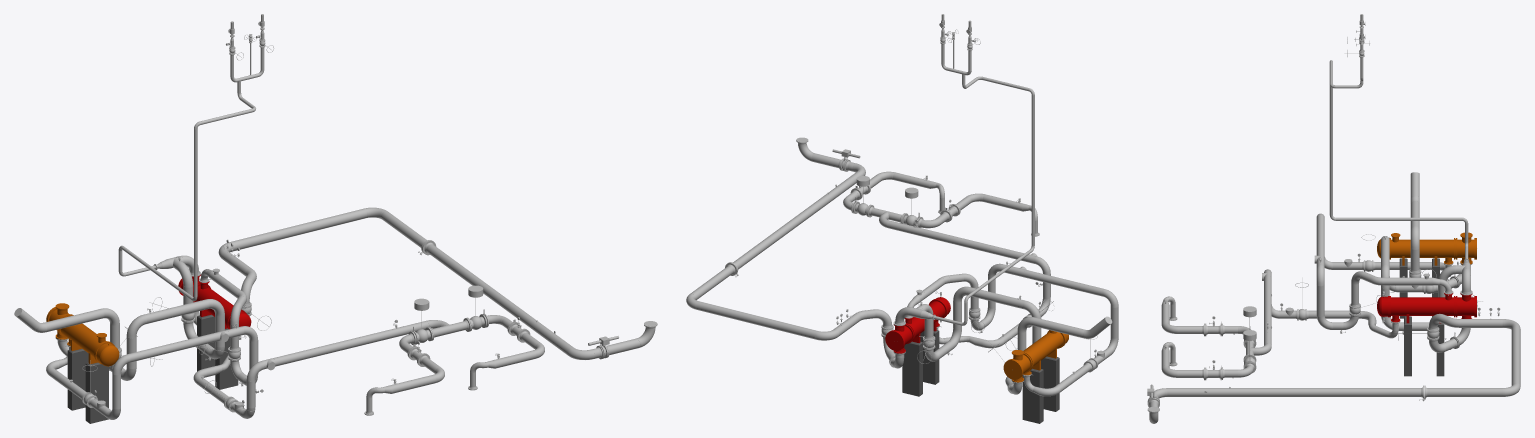
3 views of the same model, side by side, from view 1: azimuth 30°, elevation 25°; view 2: azimuth 150°, elevation 25°; view 3: azimuth 270°, elevation 25° (orthographic). The views are drawn at different scales.
Visible parts, largest first — view 1: 574f0313-eb32-ed11-94d4-0022482244b6_21_1_1, 574f0313-eb32-ed11-94d4-0022482244b6_23_1_1, 634f0313-eb32-ed11-94d4-0022482244b6_20_1_1, 574f0313-eb32-ed11-94d4-0022482244b6_22_1_1, 574f0313-eb32-ed11-94d4-0022482244b6_23_2_1, 574f0313-eb32-ed11-94d4-0022482244b6_20_1_1, 9c4f0313-eb32-ed11-94d4-0022482244b6_20_1_1, 574f0313-eb32-ed11-94d4-0022482244b6_28_1_1, 574f0313-eb32-ed11-94d4-0022482244b6_27_1_1, 574f0313-eb32-ed11-94d4-0022482244b6_24_1_1, 574f0313-eb32-ed11-94d4-0022482244b6_25_1_1, 864f0313-eb32-ed11-94d4-0022482244b6_20_1_1 (+1 smaller); view 2: 574f0313-eb32-ed11-94d4-0022482244b6_21_1_1, 574f0313-eb32-ed11-94d4-0022482244b6_23_1_1, 634f0313-eb32-ed11-94d4-0022482244b6_20_1_1, 574f0313-eb32-ed11-94d4-0022482244b6_22_1_1, 574f0313-eb32-ed11-94d4-0022482244b6_20_1_1, 574f0313-eb32-ed11-94d4-0022482244b6_23_2_1, 9c4f0313-eb32-ed11-94d4-0022482244b6_20_1_1, 864f0313-eb32-ed11-94d4-0022482244b6_20_1_1, 574f0313-eb32-ed11-94d4-0022482244b6_24_1_1, 574f0313-eb32-ed11-94d4-0022482244b6_28_1_1, 574f0313-eb32-ed11-94d4-0022482244b6_25_1_1, 574f0313-eb32-ed11-94d4-0022482244b6_27_1_1 (+2 smaller); view 3: 574f0313-eb32-ed11-94d4-0022482244b6_21_1_1, 574f0313-eb32-ed11-94d4-0022482244b6_23_1_1, 574f0313-eb32-ed11-94d4-0022482244b6_22_1_1, 574f0313-eb32-ed11-94d4-0022482244b6_20_1_1, 864f0313-eb32-ed11-94d4-0022482244b6_20_1_1, 9c4f0313-eb32-ed11-94d4-0022482244b6_20_1_1, 574f0313-eb32-ed11-94d4-0022482244b6_25_1_1, 574f0313-eb32-ed11-94d4-0022482244b6_24_1_1, 574f0313-eb32-ed11-94d4-0022482244b6_23_2_1, 634f0313-eb32-ed11-94d4-0022482244b6_20_1_1, 574f0313-eb32-ed11-94d4-0022482244b6_26_1_1, 574f0313-eb32-ed11-94d4-0022482244b6_28_1_1 (+2 smaller).
Part boxes in pixels (<box>): 574f0313-eb32-ed11-94d4-0022482244b6_21_1_1: <box>33,207,573,380</box>; 574f0313-eb32-ed11-94d4-0022482244b6_23_1_1: <box>112,305,544,409</box>; 634f0313-eb32-ed11-94d4-0022482244b6_20_1_1: <box>67,316,238,423</box>; 574f0313-eb32-ed11-94d4-0022482244b6_22_1_1: <box>55,208,422,351</box>; 574f0313-eb32-ed11-94d4-0022482244b6_23_2_1: <box>262,314,506,415</box>; 574f0313-eb32-ed11-94d4-0022482244b6_20_1_1: <box>48,305,271,419</box>; 9c4f0313-eb32-ed11-94d4-0022482244b6_20_1_1: <box>46,307,119,366</box>; 574f0313-eb32-ed11-94d4-0022482244b6_28_1_1: <box>194,14,273,129</box>; 574f0313-eb32-ed11-94d4-0022482244b6_27_1_1: <box>536,320,657,359</box>; 574f0313-eb32-ed11-94d4-0022482244b6_24_1_1: <box>14,245,519,347</box>; 574f0313-eb32-ed11-94d4-0022482244b6_25_1_1: <box>82,355,255,417</box>; 864f0313-eb32-ed11-94d4-0022482244b6_20_1_1: <box>178,278,251,329</box>; 574f0313-eb32-ed11-94d4-0022482244b6_21_1_1: <box>686,171,1118,338</box>; 574f0313-eb32-ed11-94d4-0022482244b6_23_1_1: <box>847,171,1118,343</box>; 634f0313-eb32-ed11-94d4-0022482244b6_20_1_1: <box>902,331,1059,423</box>; 574f0313-eb32-ed11-94d4-0022482244b6_22_1_1: <box>695,273,1032,384</box>; 574f0313-eb32-ed11-94d4-0022482244b6_20_1_1: <box>881,298,1118,394</box>; 574f0313-eb32-ed11-94d4-0022482244b6_23_2_1: <box>843,176,1039,292</box>; 9c4f0313-eb32-ed11-94d4-0022482244b6_20_1_1: <box>1003,330,1068,379</box>; 864f0313-eb32-ed11-94d4-0022482244b6_20_1_1: <box>885,297,950,350</box>; 574f0313-eb32-ed11-94d4-0022482244b6_24_1_1: <box>909,199,1112,336</box>; 574f0313-eb32-ed11-94d4-0022482244b6_28_1_1: <box>939,14,1034,95</box>; 574f0313-eb32-ed11-94d4-0022482244b6_25_1_1: <box>943,306,1111,372</box>; 574f0313-eb32-ed11-94d4-0022482244b6_27_1_1: <box>796,137,865,193</box>; 574f0313-eb32-ed11-94d4-0022482244b6_21_1_1: <box>1164,196,1520,399</box>; 574f0313-eb32-ed11-94d4-0022482244b6_23_1_1: <box>1161,269,1389,380</box>; 574f0313-eb32-ed11-94d4-0022482244b6_22_1_1: <box>1402,248,1520,386</box>; 574f0313-eb32-ed11-94d4-0022482244b6_20_1_1: <box>1271,234,1470,352</box>; 864f0313-eb32-ed11-94d4-0022482244b6_20_1_1: <box>1377,296,1476,323</box>; 9c4f0313-eb32-ed11-94d4-0022482244b6_20_1_1: <box>1377,233,1476,265</box>; 574f0313-eb32-ed11-94d4-0022482244b6_25_1_1: <box>1279,259,1389,337</box>; 574f0313-eb32-ed11-94d4-0022482244b6_24_1_1: <box>1212,172,1470,365</box>; 574f0313-eb32-ed11-94d4-0022482244b6_23_2_1: <box>1163,271,1384,377</box>; 634f0313-eb32-ed11-94d4-0022482244b6_20_1_1: <box>1399,267,1444,376</box>; 574f0313-eb32-ed11-94d4-0022482244b6_26_1_1: <box>1398,262,1460,351</box>; 574f0313-eb32-ed11-94d4-0022482244b6_28_1_1: <box>1329,14,1370,88</box>.
Bounding box in the file's own units: 26.33 × 19.68 × 19.07.
